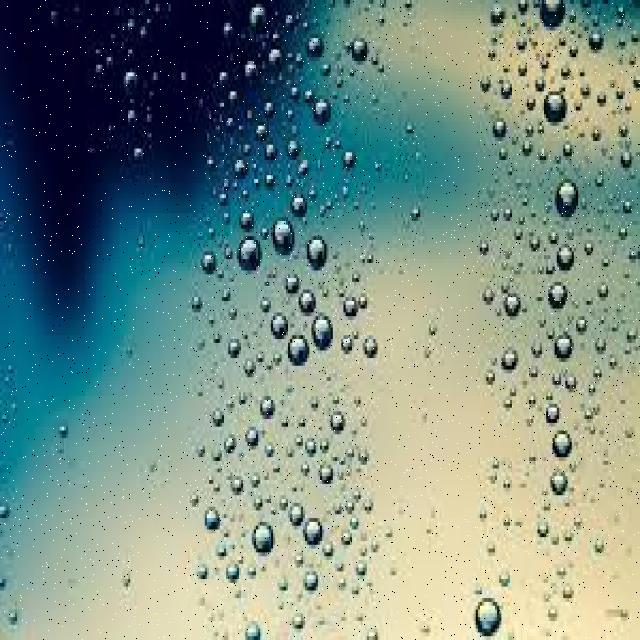raindrop: (233, 220, 270, 282), (536, 78, 572, 138), (308, 301, 339, 363), (268, 210, 300, 270), (248, 508, 282, 562), (472, 588, 507, 640), (342, 22, 376, 74), (552, 175, 584, 228), (304, 19, 336, 66), (302, 230, 332, 280), (540, 277, 572, 322), (552, 232, 579, 285), (550, 322, 581, 367), (302, 509, 331, 557), (286, 329, 315, 376), (536, 0, 570, 40), (549, 426, 577, 472), (548, 460, 575, 506), (242, 0, 273, 40), (267, 302, 294, 346), (284, 489, 309, 534), (310, 90, 336, 132), (496, 341, 522, 382), (294, 283, 320, 322)
